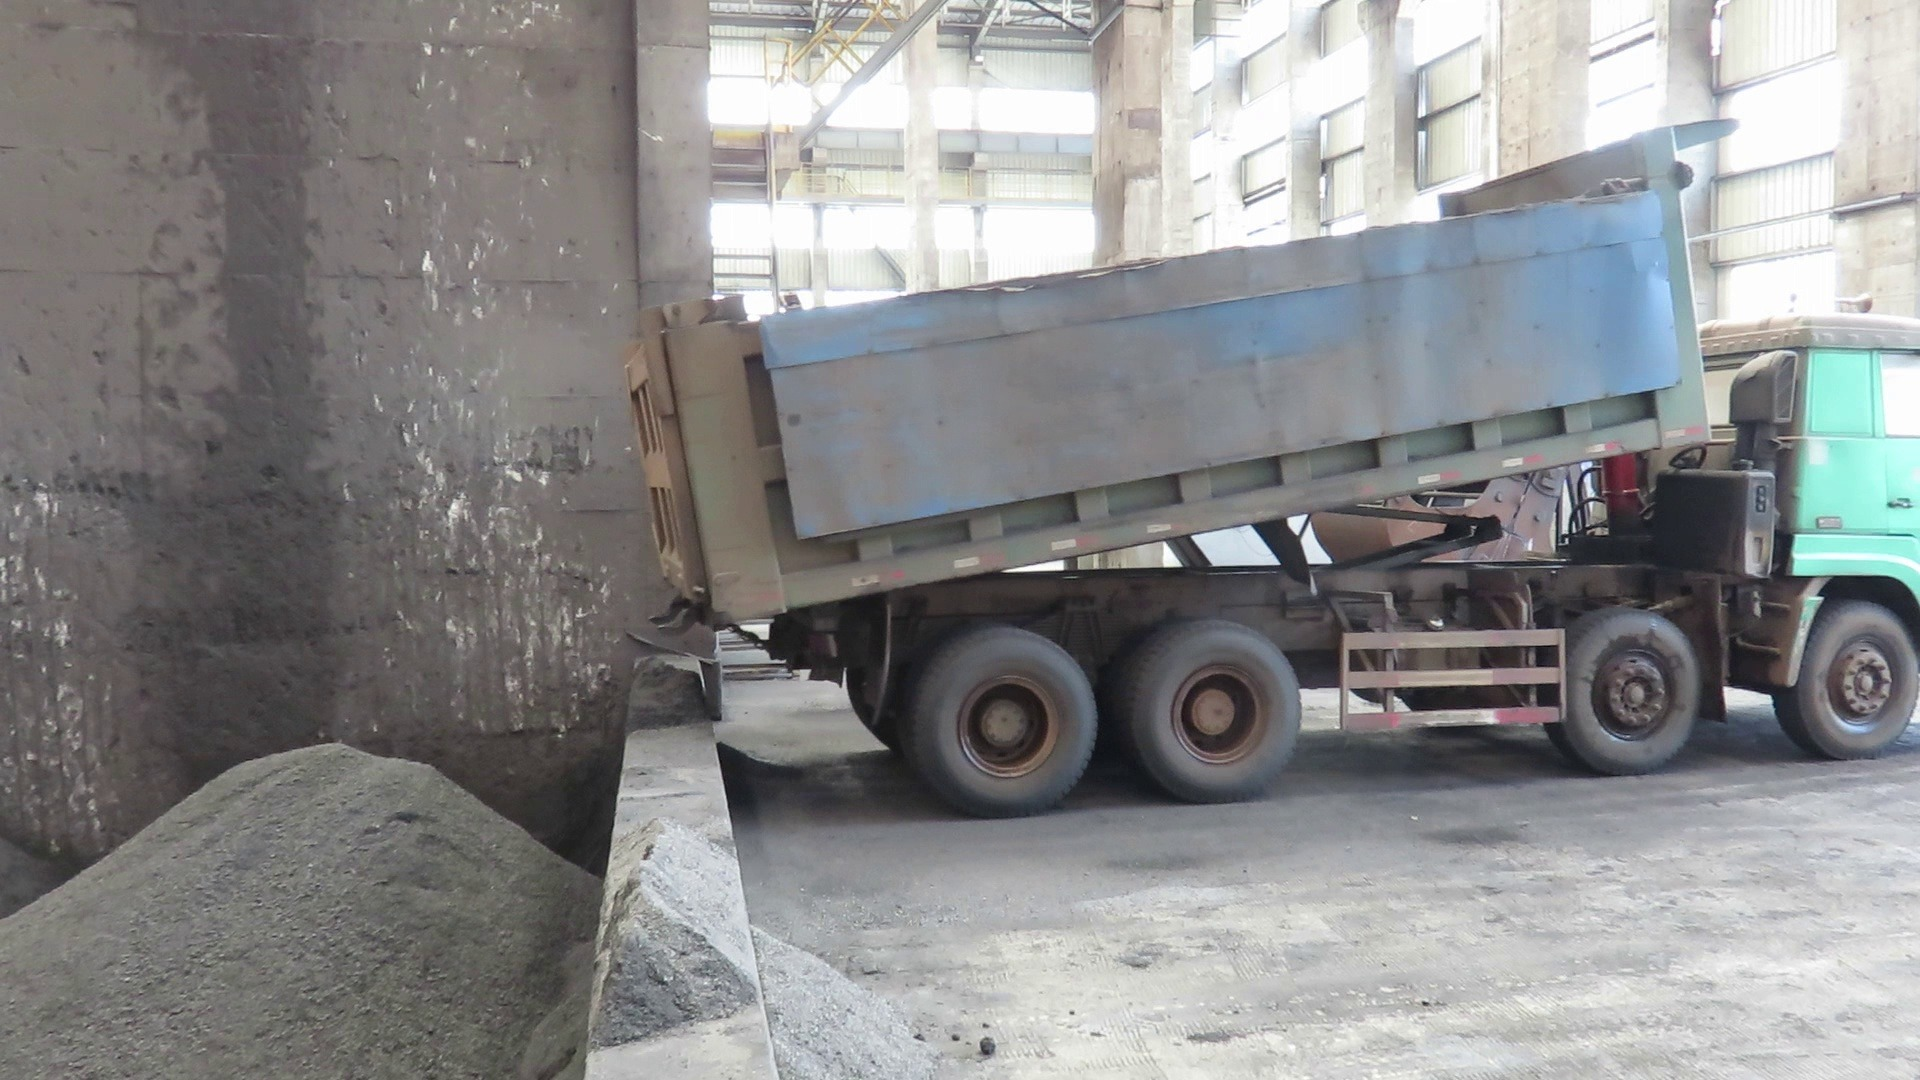truck: (607, 109, 1920, 827)
